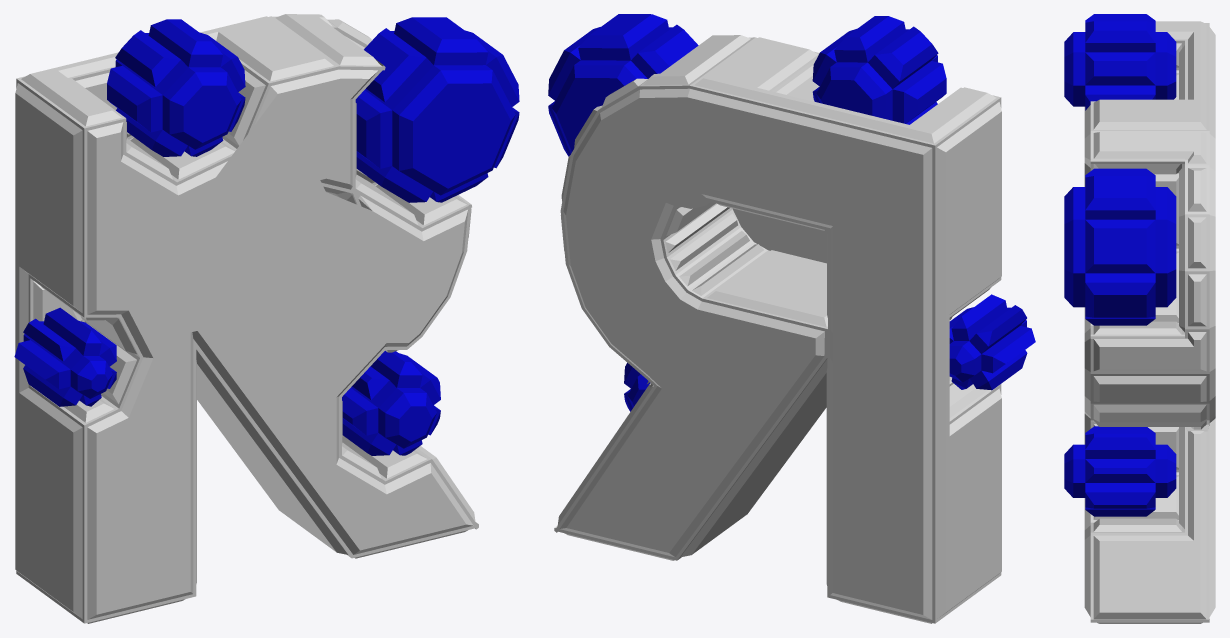
The picture shows the model from 3 angles, left to right: view 1: azimuth 30°, elevation 25°; view 2: azimuth 150°, elevation 25°; view 3: azimuth 270°, elevation 25°; orthographic projection. The views are drawn at different scales.
Visible parts, largest first — view 1: sphere1; view 2: sphere1; view 3: sphere1.
Boxes of the visible parts, x1=… form: sphere1: x1=14, y1=14, x2=519, y2=623; sphere1: x1=548, y1=14, x2=1035, y2=623; sphere1: x1=1064, y1=14, x2=1215, y2=623.
Size of the model in its own units: 0.8007 by 0.9033 by 0.2541.
